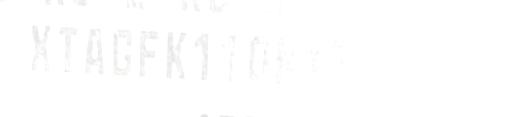letter: (21, 20, 59, 75), (466, 38, 500, 97), (326, 31, 358, 90), (354, 32, 386, 91), (382, 34, 414, 93), (269, 32, 303, 87), (298, 31, 330, 88), (410, 38, 442, 95), (80, 20, 110, 79), (107, 22, 137, 81), (438, 37, 468, 96), (241, 30, 273, 85), (52, 21, 82, 78), (134, 23, 164, 80), (216, 26, 244, 85), (160, 26, 190, 81), (188, 25, 214, 84)
